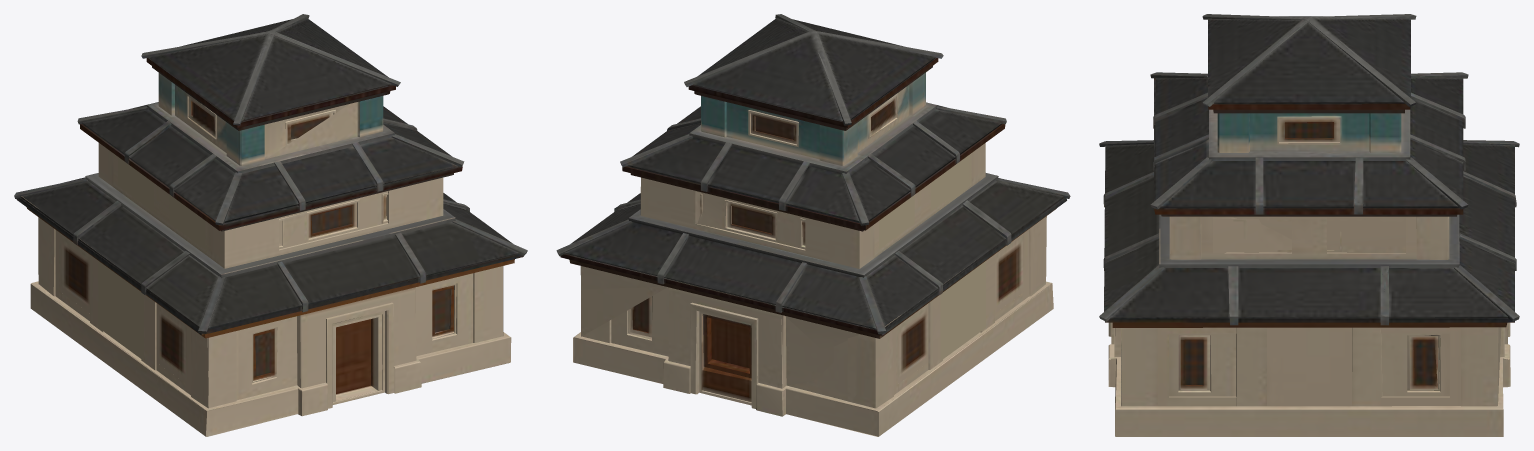
Rendered from city-citadel-map.glb.
3 renders of one model, left to right at view 1: azimuth 30°, elevation 25°; view 2: azimuth 150°, elevation 25°; view 3: azimuth 270°, elevation 25°, orthographic. The views are drawn at different scales.
Size of the model in its own units: 0.9595 by 0.8486 by 0.9575.
Materials: 1 (1 with a texture image).
